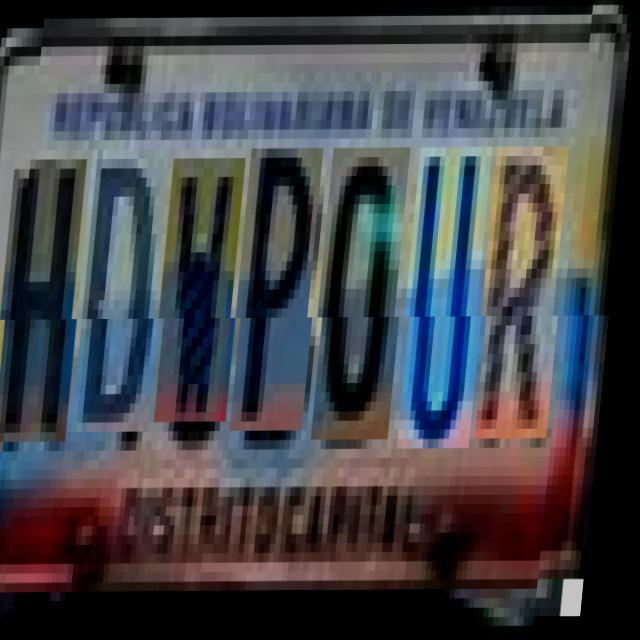D: (80, 150, 178, 432)
H: (2, 159, 95, 442)
O: (320, 148, 418, 440)
P: (238, 148, 332, 432)
R: (483, 148, 578, 440)
U: (406, 148, 500, 448)
W: (163, 158, 254, 422)
